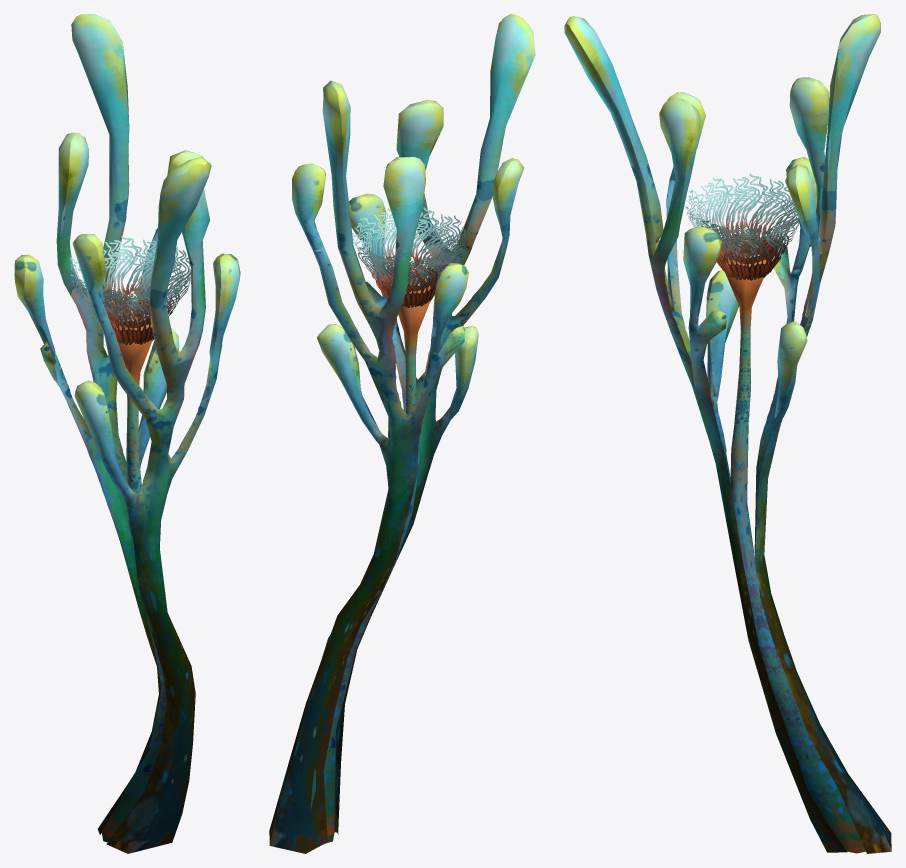
File: alga2.fbx
3 renders of one model, left to right at view 1: azimuth 30°, elevation 25°; view 2: azimuth 150°, elevation 25°; view 3: azimuth 270°, elevation 25°, orthographic. The views are drawn at different scales.
Visible parts, largest first — view 1: mesh_LOD1_0.014; view 2: mesh_LOD1_0.014; view 3: mesh_LOD1_0.014.
Part boxes in pixels (x1=…): mesh_LOD1_0.014: x1=14, y1=14, x2=240, y2=853; mesh_LOD1_0.014: x1=269, y1=14, x2=535, y2=853; mesh_LOD1_0.014: x1=564, y1=14, x2=891, y2=853.
Bounding box in the file's own units: 0.6143 × 2.54 × 0.9337.
Materials: 2 (2 with a texture image).
